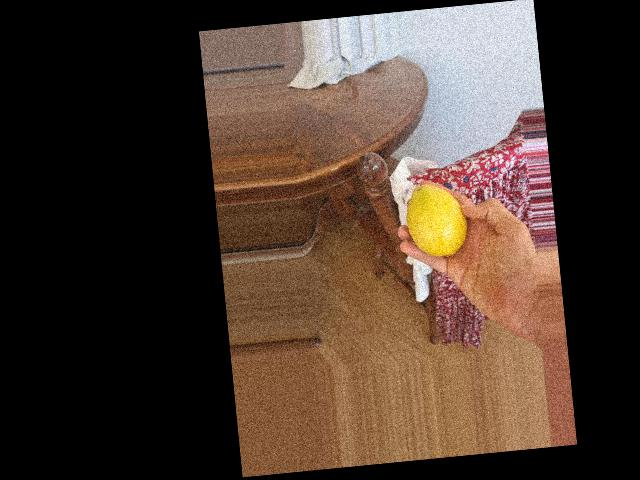lemon: (403, 179, 468, 260)
